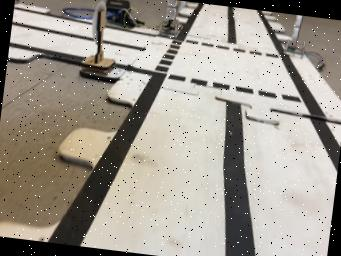street: (48, 2, 340, 256), (48, 2, 340, 256), (48, 2, 340, 256), (48, 2, 340, 256), (48, 2, 340, 256), (48, 2, 340, 256), (9, 5, 97, 64), (9, 5, 97, 64), (9, 5, 97, 64), (9, 5, 97, 64), (9, 5, 97, 64), (9, 5, 97, 64)
traffic_light: (283, 14, 306, 57), (283, 14, 306, 57), (283, 14, 306, 57), (283, 14, 306, 57), (283, 14, 306, 57), (283, 14, 306, 57), (158, 0, 180, 31), (158, 0, 180, 31), (158, 0, 180, 31), (158, 0, 180, 31), (158, 0, 180, 31), (158, 0, 180, 31)
